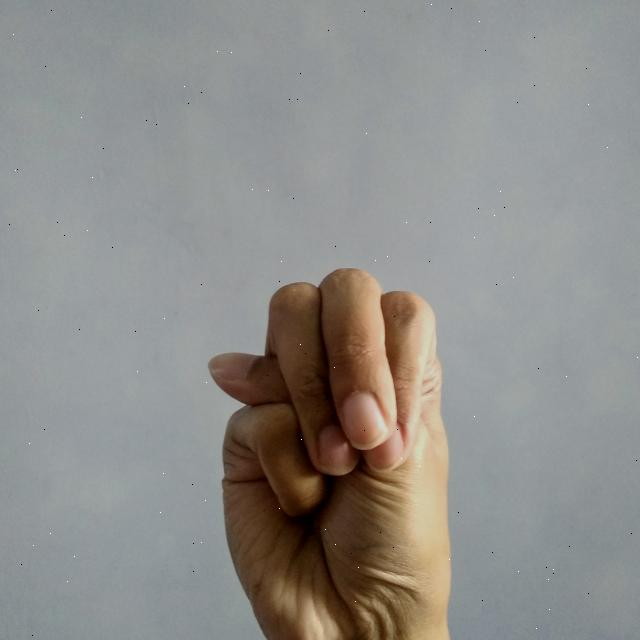M: (204, 261, 468, 640)
